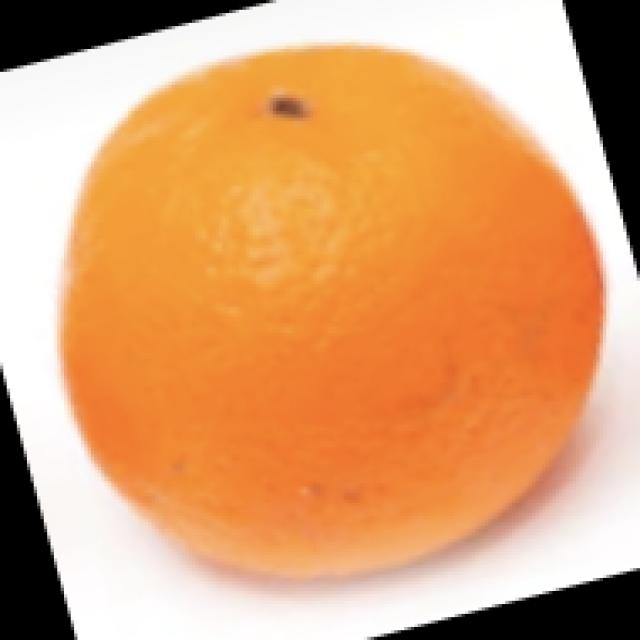fresh: (50, 42, 608, 597)
